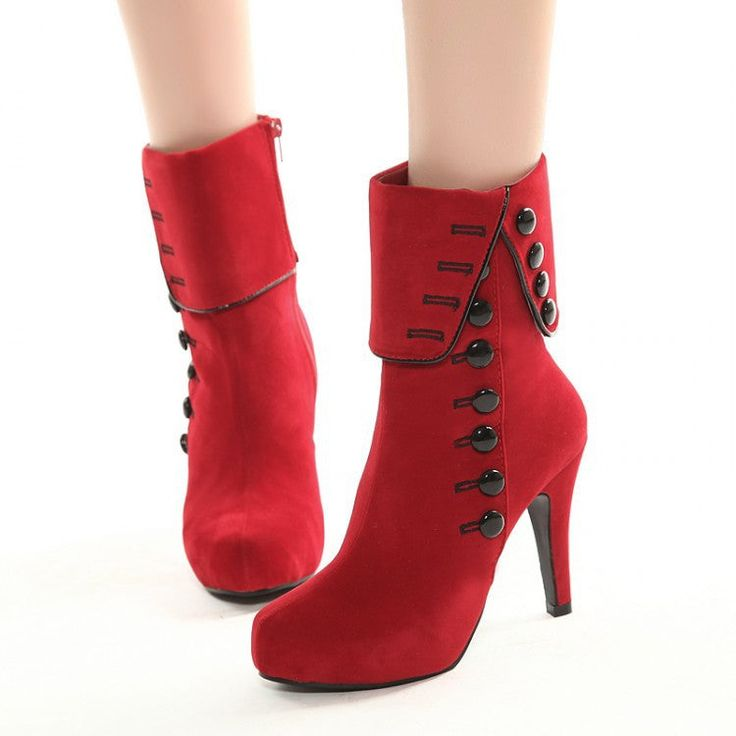gamuza: (140, 116, 588, 690)
